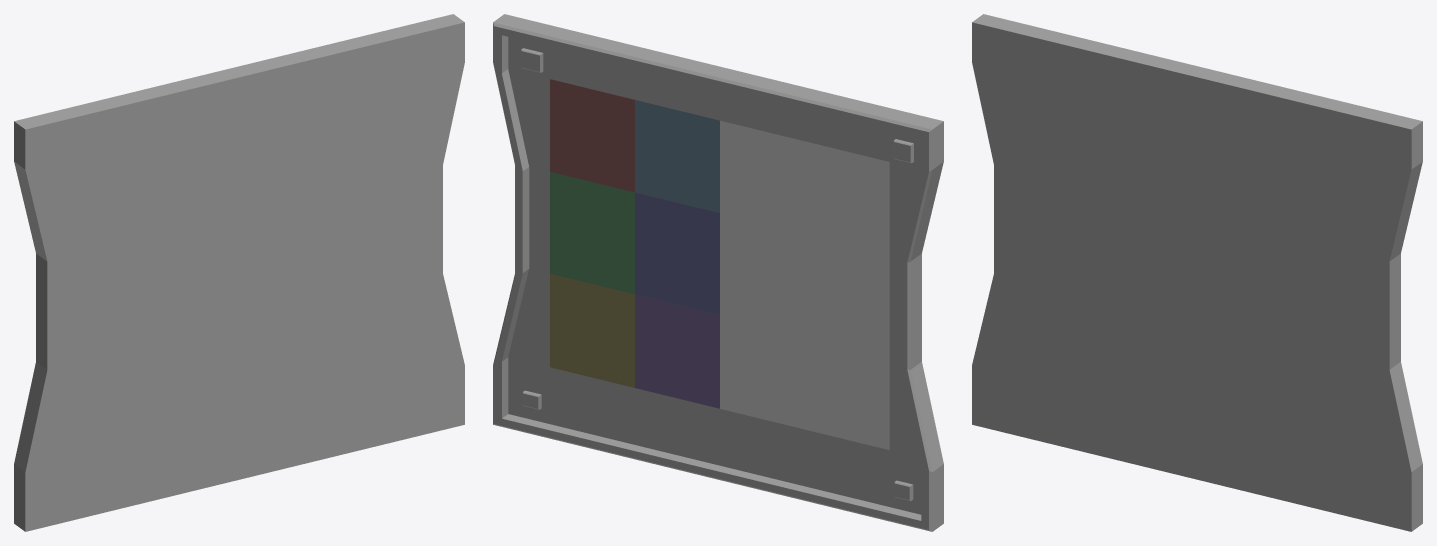
Rendered from FinalBountyBoard.fbx.
The picture shows the model from 3 angles, left to right: view 1: azimuth 30°, elevation 25°; view 2: azimuth 150°, elevation 25°; view 3: azimuth 330°, elevation 25°; orthographic projection.
Parts seen in each view (by area): view 1: BountyBord; view 2: BountyBord; view 3: BountyBord.
Part boxes in pixels (x1=…): BountyBord: x1=14, y1=14, x2=464, y2=531; BountyBord: x1=493, y1=14, x2=943, y2=531; BountyBord: x1=972, y1=14, x2=1422, y2=531.
Bounding box in the file's own units: 200 × 175 × 10.
